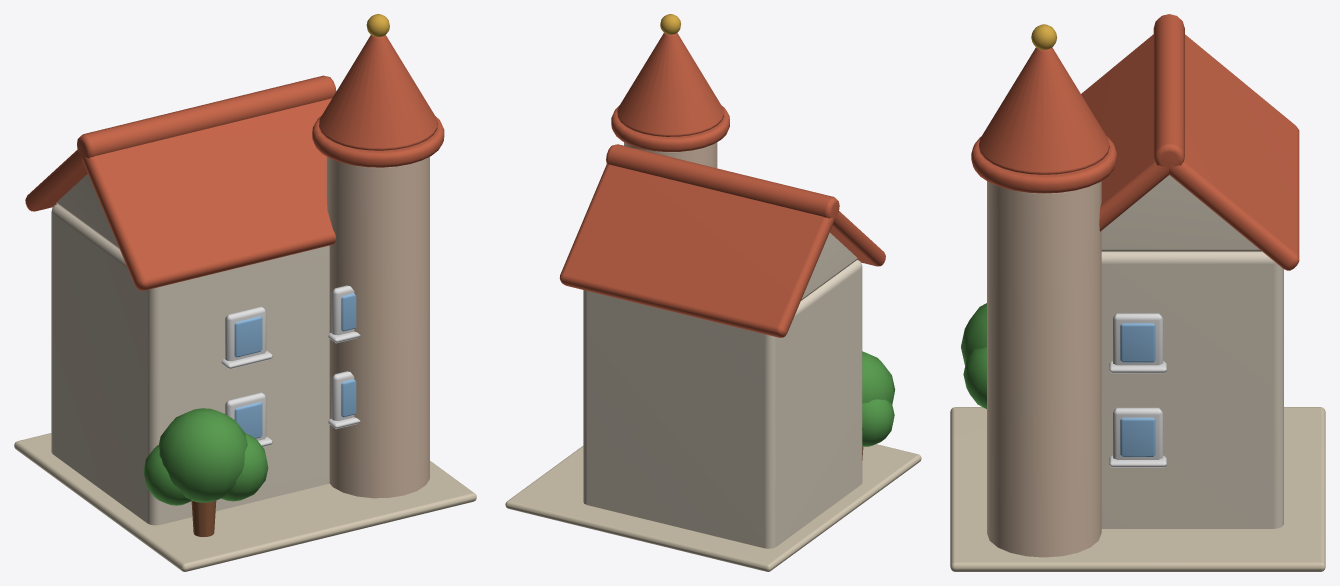
3 renders of one model, left to right at view 1: azimuth 30°, elevation 25°; view 2: azimuth 150°, elevation 25°; view 3: azimuth 270°, elevation 25°, orthographic. The views are drawn at different scales.
Visible parts, largest first — view 1: Cube; view 2: Cube; view 3: Cube.
Part boxes in pixels (x1=…): Cube: x1=14, y1=14, x2=476, y2=571; Cube: x1=505, y1=14, x2=921, y2=571; Cube: x1=950, y1=14, x2=1325, y2=571.
Size of the model in its own units: 0.725 by 1.1 by 0.72.
